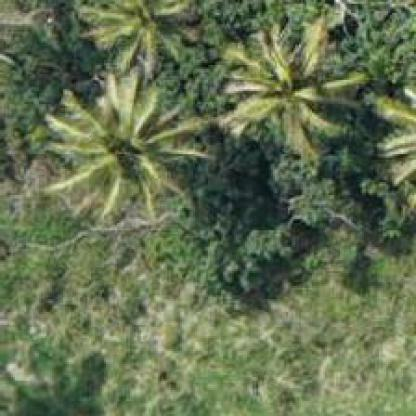coconut tree: (44, 74, 220, 225), (219, 14, 370, 171), (84, 2, 188, 61)
